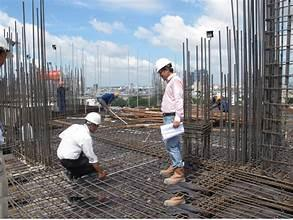Helmet: (155, 57, 172, 72), (83, 111, 101, 124)
Person: (53, 104, 111, 180), (154, 57, 185, 185), (96, 91, 119, 112)
Safety Boot: (163, 166, 185, 185)
no-vest: (60, 127, 92, 158), (164, 78, 183, 113)
